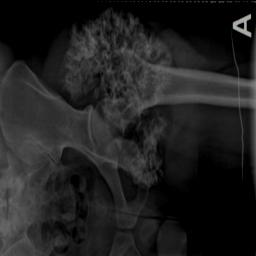cancer: (60, 12, 173, 184)
